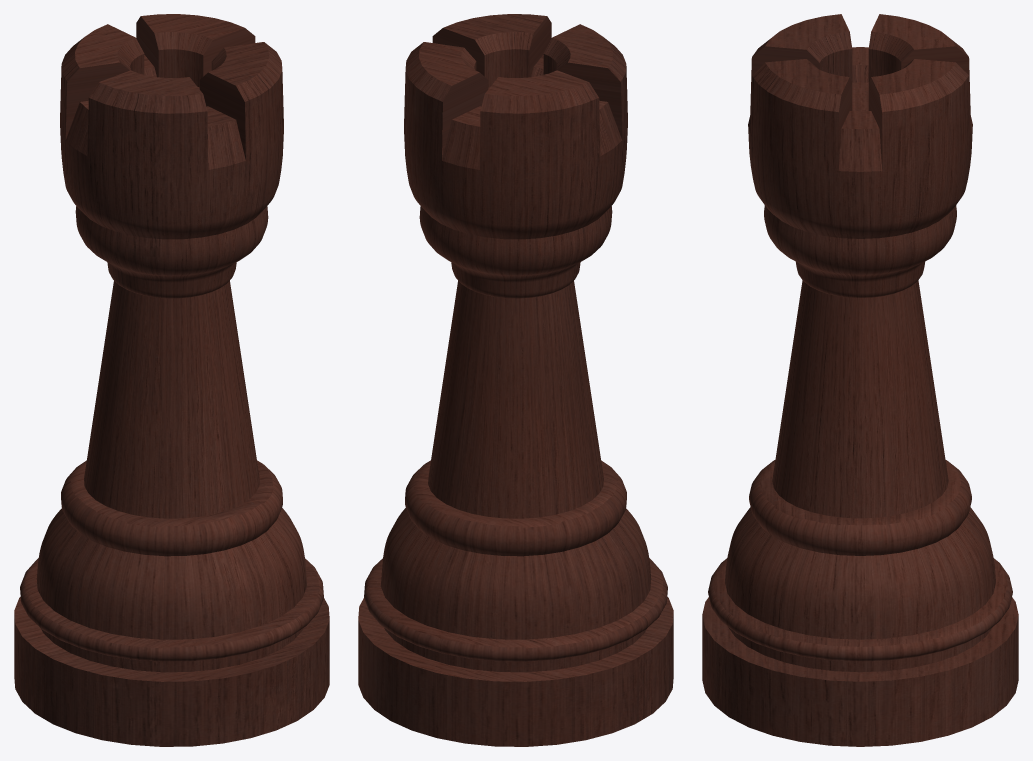
The model's file is black-rook.glb.
3 renders of one model, left to right at view 1: azimuth 30°, elevation 25°; view 2: azimuth 150°, elevation 25°; view 3: azimuth 270°, elevation 25°, orthographic.
Parts seen in each view (by area): view 1: ScacchiBianchi_Torre.003_Material #50_0; view 2: ScacchiBianchi_Torre.003_Material #50_0; view 3: ScacchiBianchi_Torre.003_Material #50_0.
Boxes of the visible parts, <box> form: ScacchiBianchi_Torre.003_Material #50_0: <box>14,14,329,746</box>; ScacchiBianchi_Torre.003_Material #50_0: <box>358,14,673,746</box>; ScacchiBianchi_Torre.003_Material #50_0: <box>702,14,1018,746</box>.
Size of the model in its own units: 2.75 by 6 by 2.75.
Materials: 1 (1 with a texture image).
